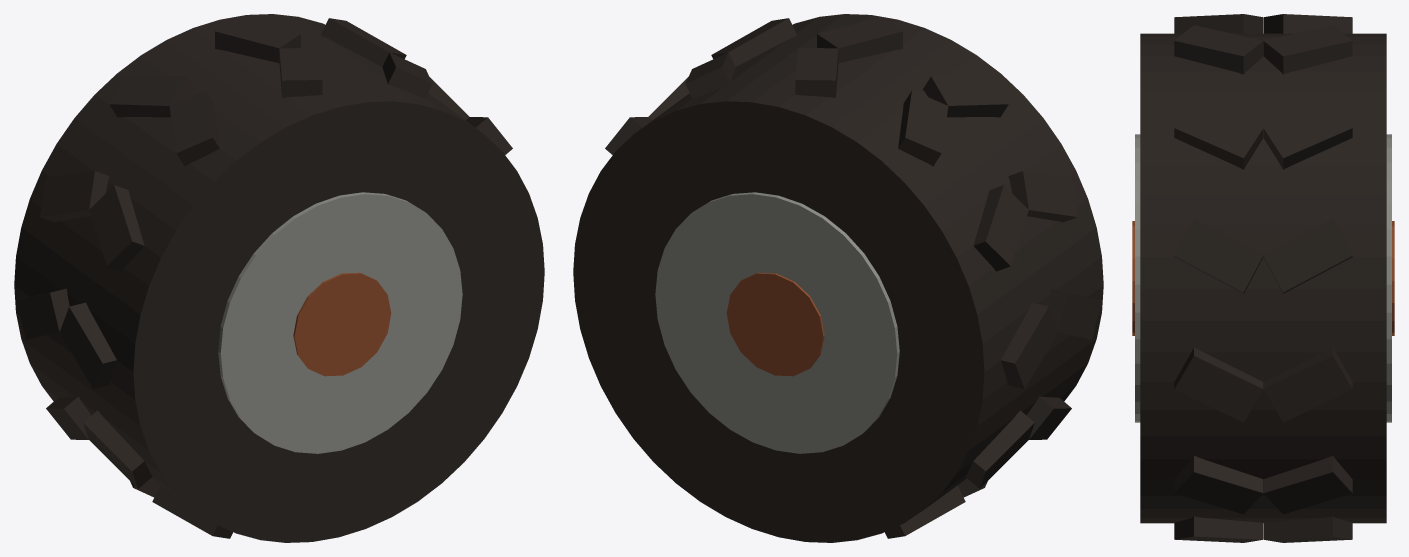
File: wheel.glb
3 views of the same model, side by side, from view 1: azimuth 30°, elevation 25°; view 2: azimuth 150°, elevation 25°; view 3: azimuth 270°, elevation 25° (orthographic). The views are drawn at different scales.
Visible parts, largest first — view 1: wheel; view 2: wheel; view 3: wheel.
Part boxes in pixels (x1,y1,x2,y2): wheel: (14, 14, 544, 542); wheel: (573, 14, 1103, 542); wheel: (1132, 14, 1394, 542).
Size of the model in its own units: 2 by 2 by 1.
